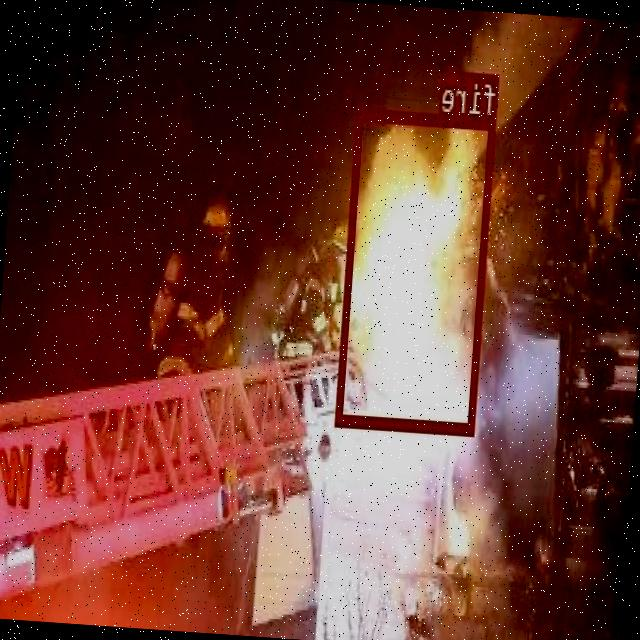fire: (336, 106, 496, 433)
